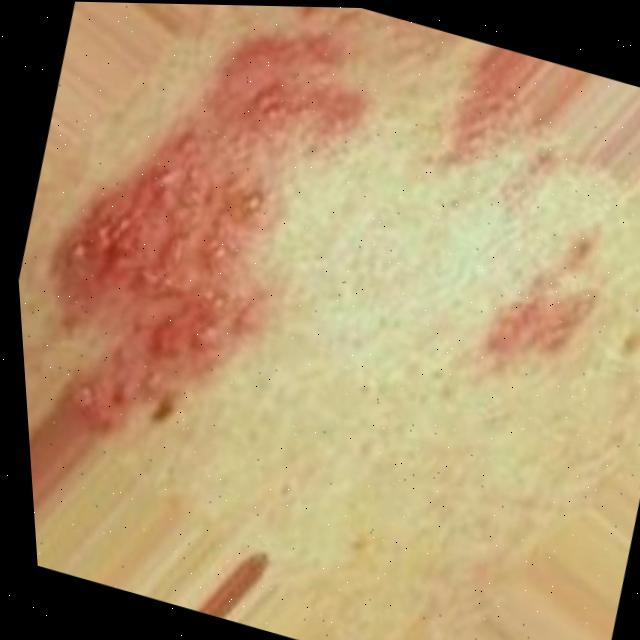Shingles: (0, 0, 418, 491), (382, 67, 640, 384)
